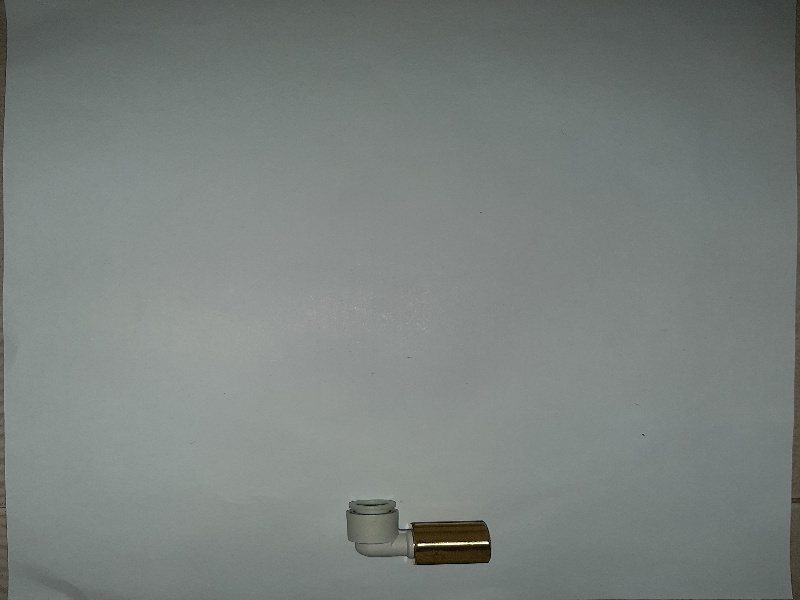Connector: (340, 490, 524, 572)
